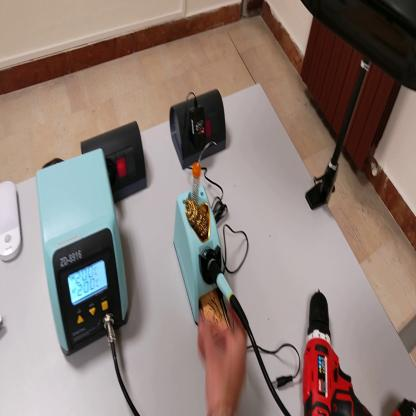electric screwdriver: (300, 290, 416, 415)
hand: (198, 300, 248, 406)
socket: (79, 115, 146, 206), (168, 86, 229, 175)
welder base: (172, 156, 228, 322)
welder probe tip: (206, 254, 249, 330)
welder station: (42, 142, 130, 360)
